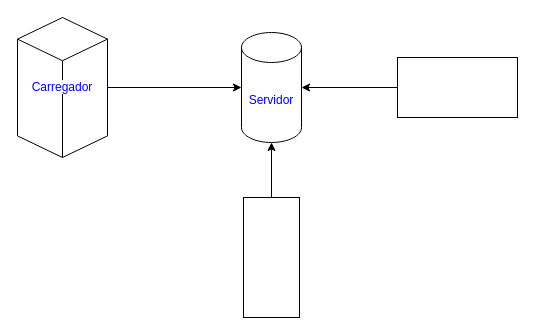
Some shapes in this 535 by 335 pixel diagram are drawn without their labels. The centre of each missing label's shape, as x and y in pixels:
App: (271,257)
Plataforma: (457,87)
